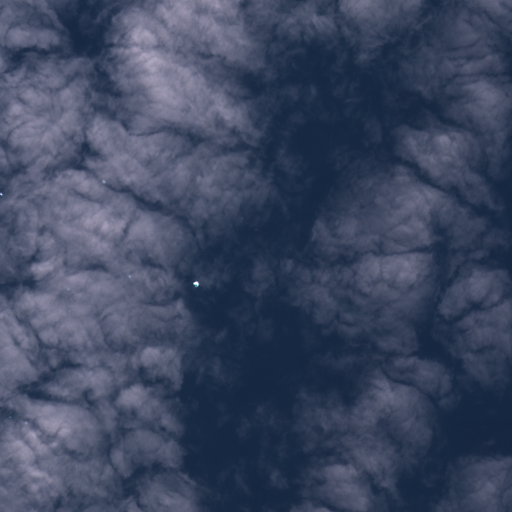Iceberg: (193, 281, 199, 286), (102, 180, 105, 183), (128, 275, 131, 278), (0, 192, 2, 195), (67, 288, 68, 289), (9, 416, 10, 417), (25, 422, 26, 423)
